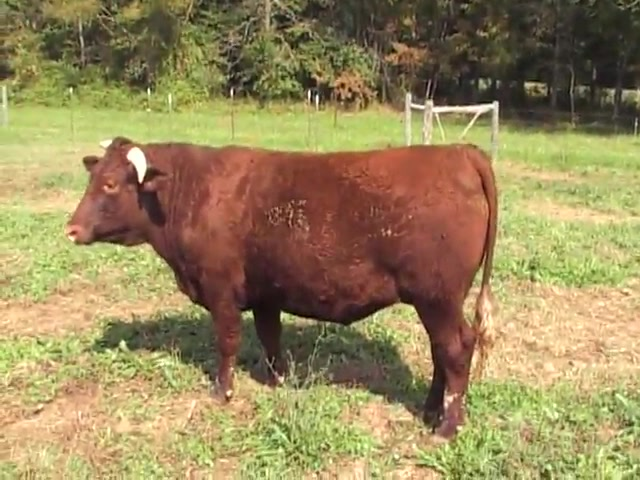cow: (64, 139, 499, 451)
